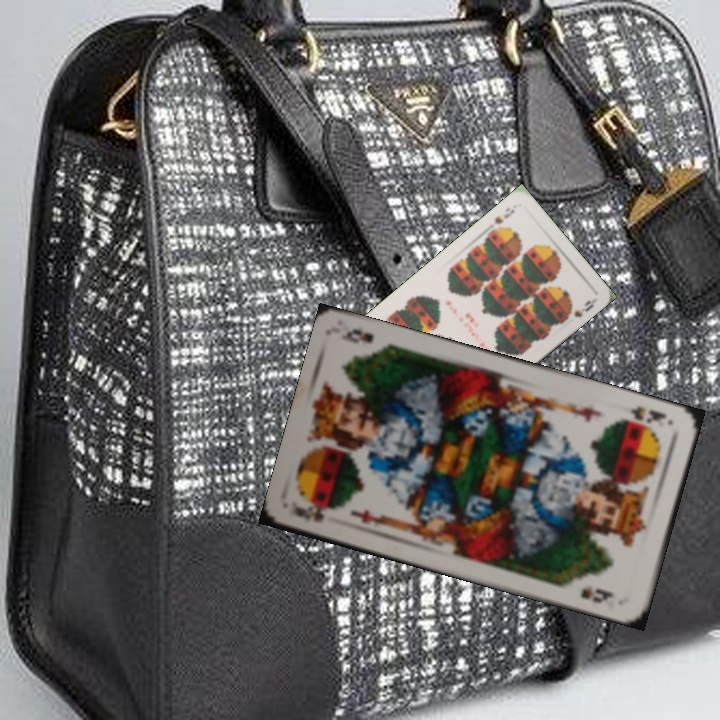S9: (485, 203, 517, 231)
SK: (616, 402, 675, 431), (288, 501, 329, 525)
